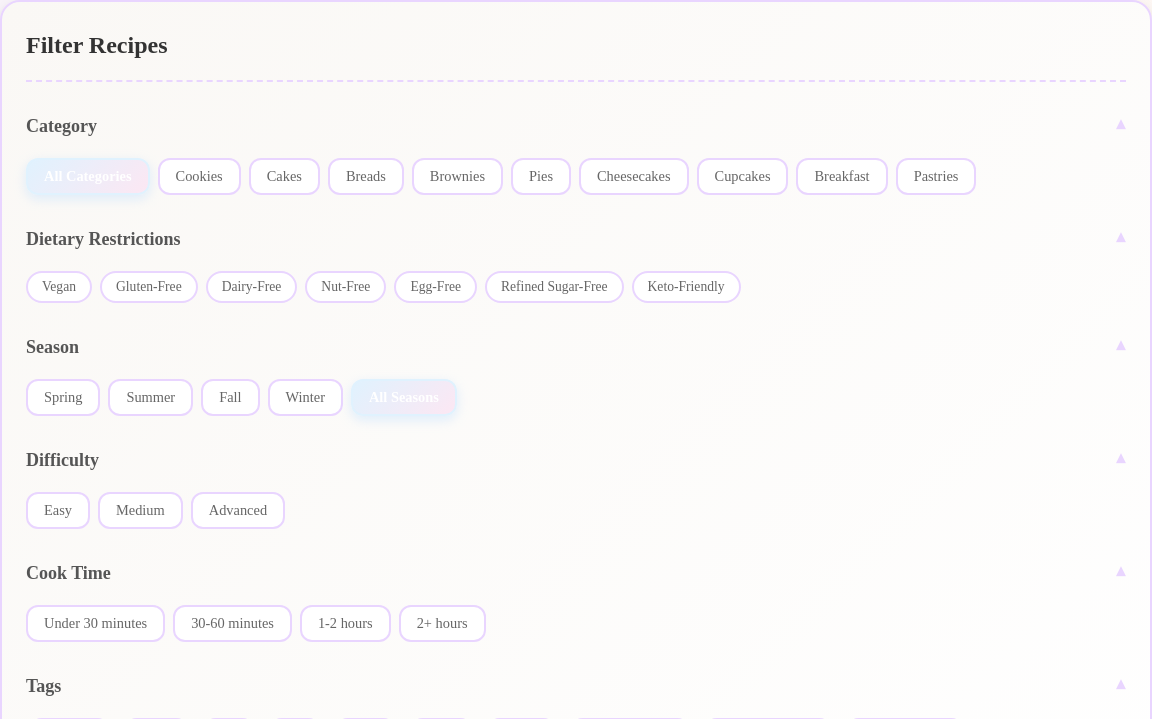
Test: RecipeFilters Component › should collapse and expand filter sections with transitions
Click to collapse
What coordinates should you click on to do the following:
click the button with aria-label "toggle difficulty filters"
I would click on:
 (62, 460)
Its box is [26, 440, 1126, 480].
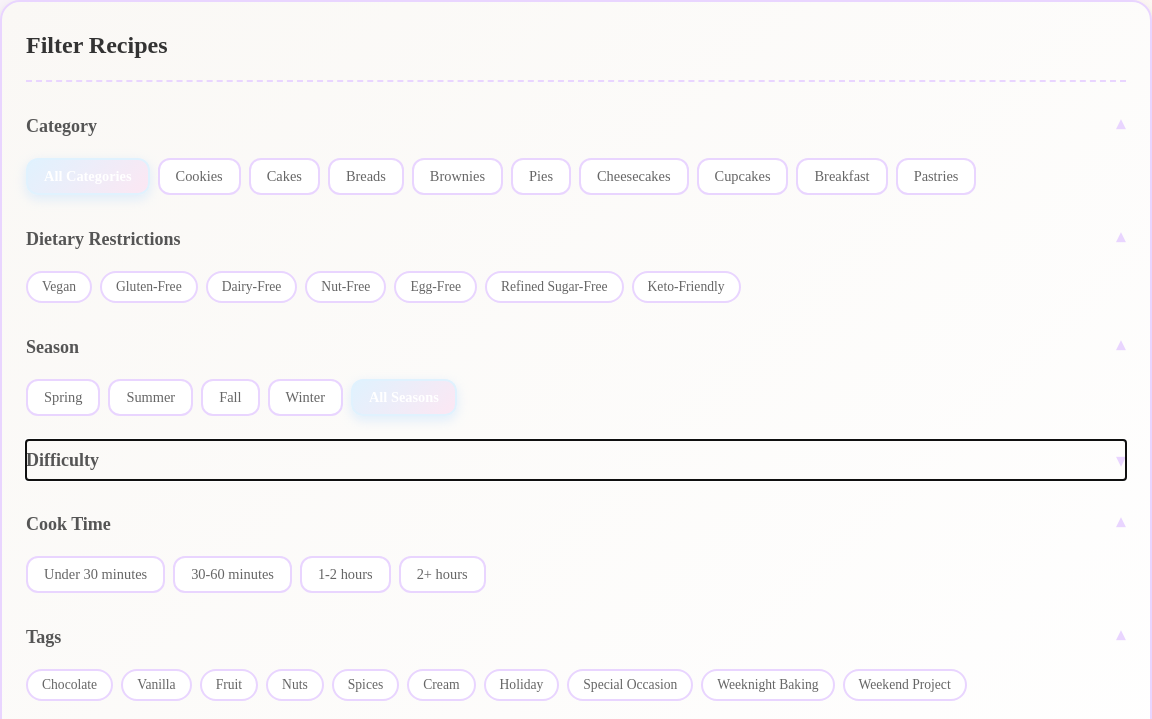
Expected: the 4th text with class "chevron" is shown, [1116, 448, 1126, 472]
Expected: the button "Easy" is gone
